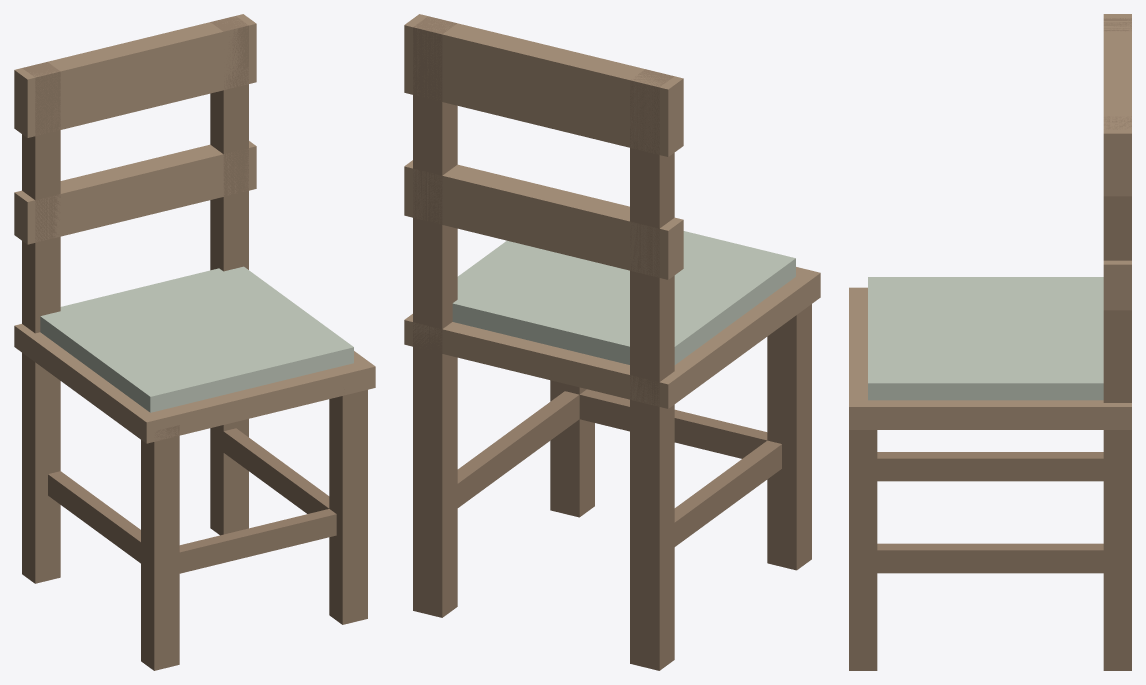
File: dining-chair.gltf
The picture shows the model from 3 angles, left to right: view 1: azimuth 30°, elevation 25°; view 2: azimuth 150°, elevation 25°; view 3: azimuth 270°, elevation 25°; orthographic projection. The views are drawn at different scales.
Visible parts, largest first — view 1: seat_pad, leg_back_l, back_top, back_slat, seat, leg_back_r, leg_front_l, leg_front_r, stretch_f, stretch_r, stretch_l; view 2: seat_pad, leg_back_r, leg_back_l, back_top, back_slat, seat, leg_front_l, stretch_r, stretch_f, leg_front_r, stretch_l; view 3: seat_pad, leg_back_r, seat, stretch_r, leg_front_r, stretch_l, back_top, back_slat.
Boxes of the visible parts, box(x1,y1,x2,y2) form: seat_pad: box(40, 266, 353, 412); leg_back_l: box(22, 62, 60, 583); back_top: box(14, 14, 256, 137); back_slat: box(14, 141, 256, 244); seat: box(14, 324, 375, 443); leg_back_r: box(210, 16, 248, 535); leg_front_l: box(141, 425, 179, 670); leg_front_r: box(329, 389, 367, 624); stretch_f: box(179, 509, 336, 573); stretch_r: box(223, 428, 329, 513); stretch_l: box(48, 471, 140, 563); seat_pad: box(452, 231, 795, 364); leg_back_r: box(413, 16, 457, 617); leg_back_l: box(630, 69, 674, 670); back_top: box(404, 14, 683, 156); back_slat: box(404, 160, 683, 279); seat: box(404, 267, 820, 408); leg_front_l: box(767, 304, 811, 570); stretch_r: box(457, 391, 579, 507); stretch_f: box(579, 389, 767, 458); leg_front_r: box(550, 380, 594, 517); stretch_l: box(674, 440, 781, 546); seat_pad: box(868, 277, 1103, 400); leg_back_r: box(1103, 116, 1131, 670); seat: box(849, 287, 1131, 429); stretch_r: box(877, 543, 1103, 573); leg_front_r: box(849, 430, 877, 670); stretch_l: box(877, 452, 1103, 481); back_top: box(1103, 14, 1131, 196); back_slat: box(1103, 260, 1131, 310).
Bounding box in the file's own units: 0.0281 × 0.0594 × 0.0281.
